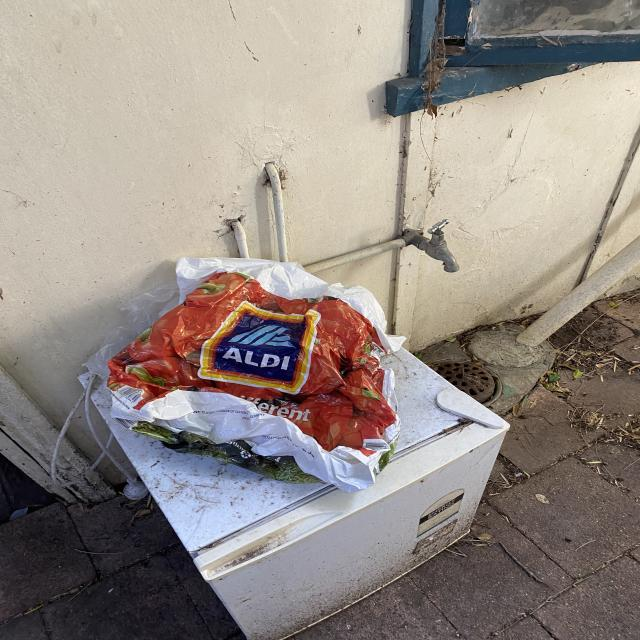bag: (102, 256, 410, 500)
